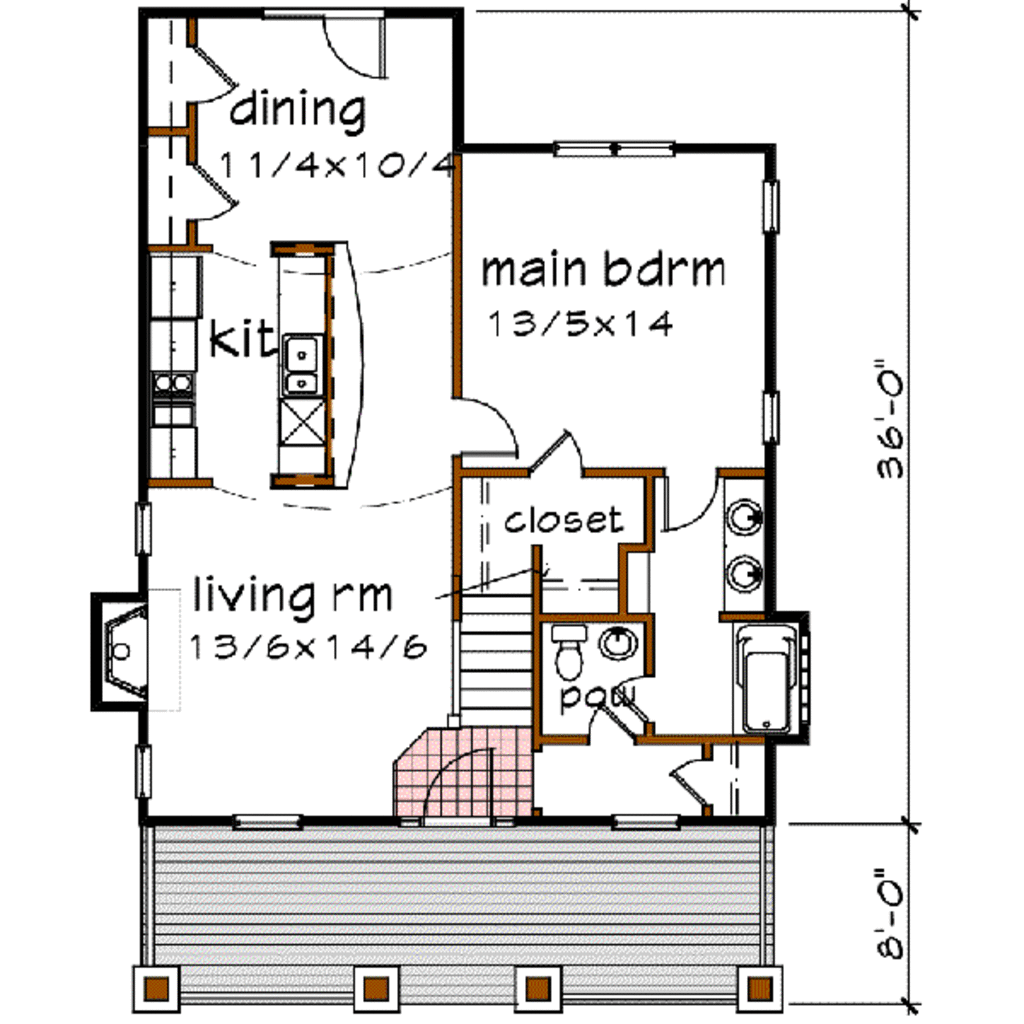door: (422, 749, 511, 828), (319, 8, 397, 83), (650, 469, 723, 541), (184, 157, 247, 230), (180, 46, 239, 116), (452, 400, 519, 461), (519, 428, 597, 477), (584, 703, 644, 753), (667, 752, 723, 802), (617, 674, 663, 721)
kitchen_bar: (259, 233, 364, 502)
large_sink: (541, 622, 591, 678)
small_sink: (722, 475, 772, 610), (589, 622, 647, 664)
stairs: (453, 572, 534, 730)
tub: (731, 621, 814, 733)
window: (552, 133, 675, 163), (230, 802, 303, 839), (123, 502, 161, 561), (606, 807, 688, 833), (127, 738, 156, 804), (752, 382, 780, 447), (755, 178, 783, 232)
